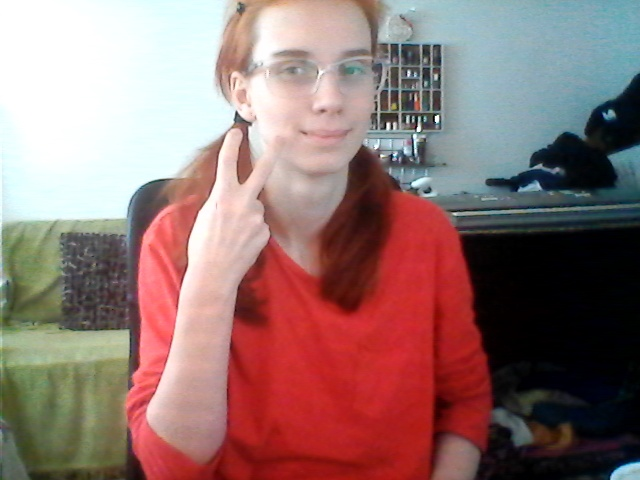usmievat: (175, 112, 382, 246)
